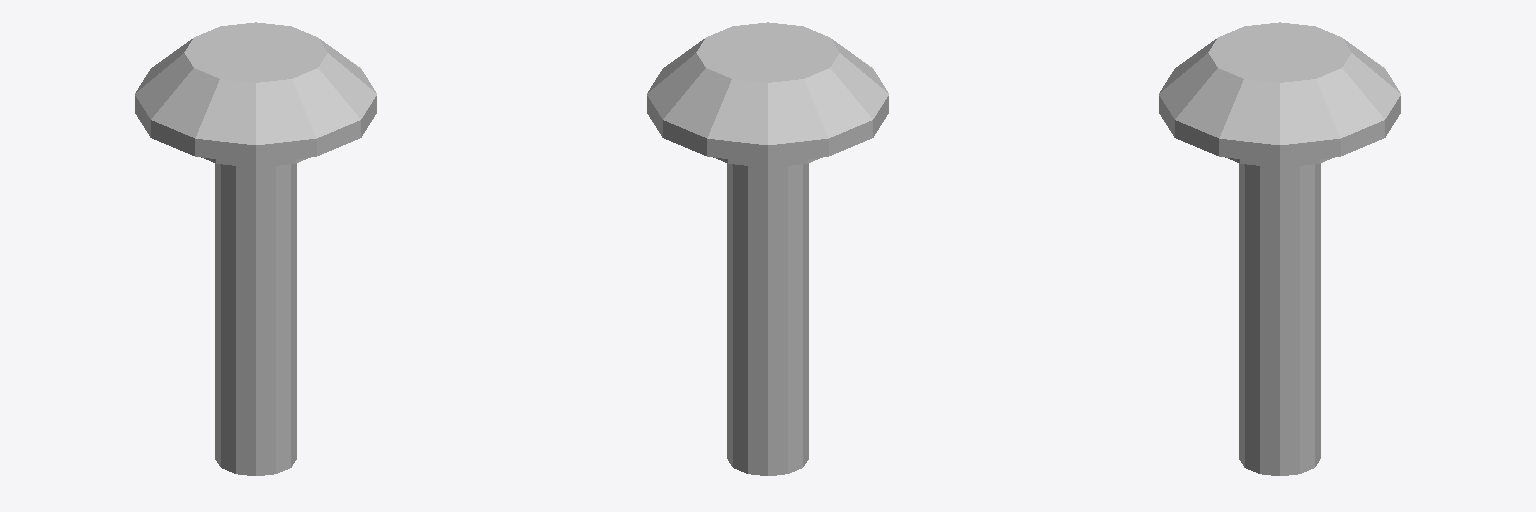
File: TrumpetKey2.obj
The picture shows the model from 3 angles: view 1: azimuth 30°, elevation 25°; view 2: azimuth 150°, elevation 25°; view 3: azimuth 270°, elevation 25°; orthographic projection.
Visible parts, largest first — view 1: Converted object 0(m0), Converted object 0(m1); view 2: Converted object 0(m0), Converted object 0(m1); view 3: Converted object 0(m0), Converted object 0(m1).
Part boxes in pixels (left/top/right/bottom): Converted object 0(m0): left=135, top=22, right=376, bottom=167; Converted object 0(m1): left=215, top=163, right=296, bottom=475; Converted object 0(m0): left=647, top=22, right=888, bottom=167; Converted object 0(m1): left=727, top=163, right=808, bottom=475; Converted object 0(m0): left=1159, top=22, right=1400, bottom=167; Converted object 0(m1): left=1239, top=163, right=1320, bottom=475.
Bounding box in the file's own units: 0.6058 × 1.12 × 0.6058.